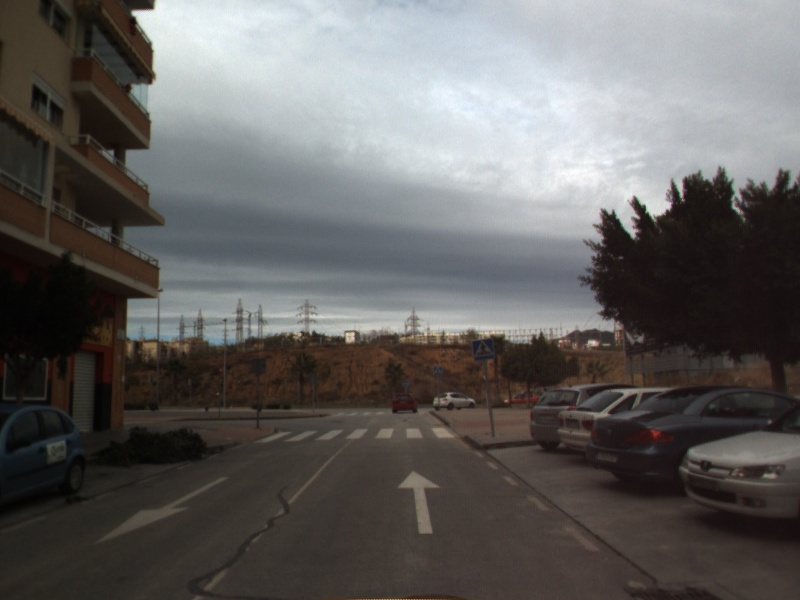STRAIGHT: (395, 468, 443, 536)
